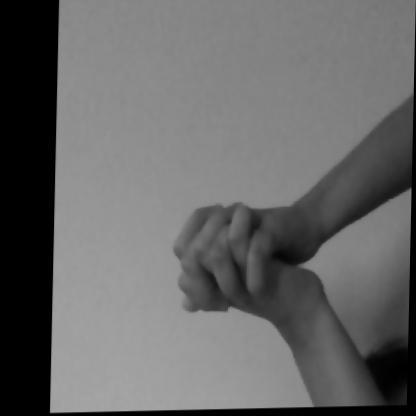prayer: (141, 157, 348, 359)
